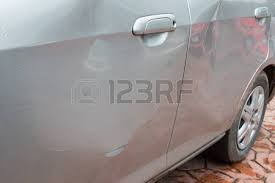Dent: (112, 106, 222, 183), (185, 2, 254, 117), (64, 1, 136, 70)
Scratch: (101, 145, 129, 159)
